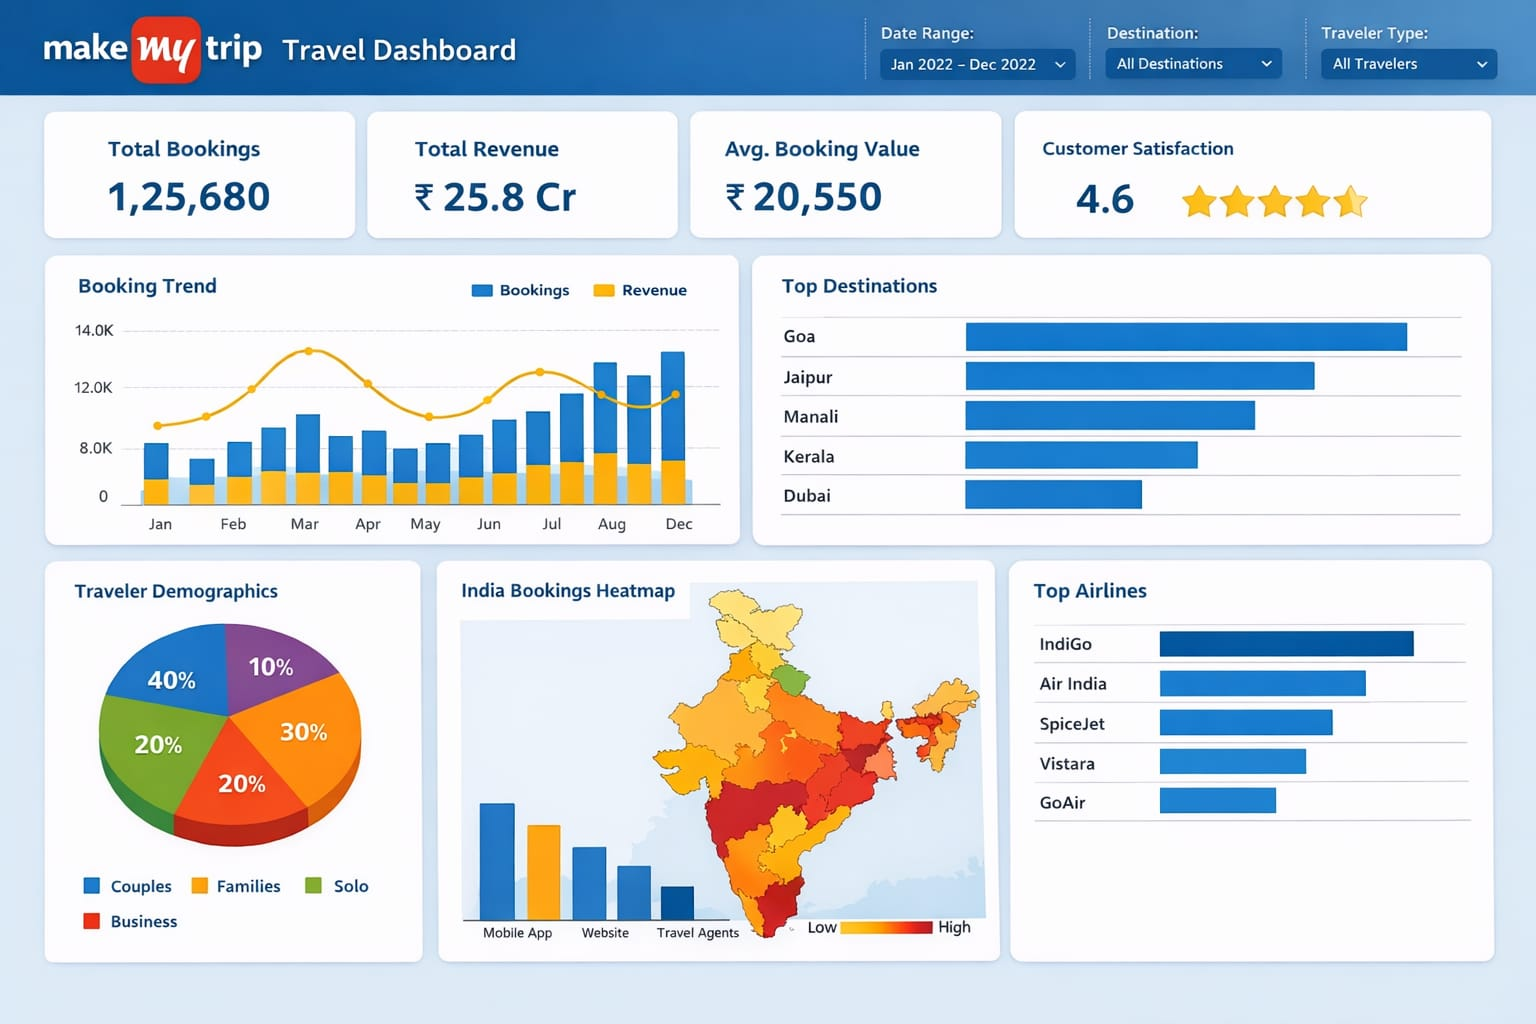

The page's visual inventory and layout, read from the dashboard file:
{"tool":"powerbi","page":{"name":"Page 1","canvas":[1280,720],"ordinal":0},"visuals":[{"type":"image","box":[0,0,1280,70],"z":0},{"type":"image","box":[10,8.6,192.9,54.3],"z":1000},{"type":"textbox","box":[202.9,12.9,240,45.7],"z":2000},{"type":"cardVisual","fields":{"Data":["MakeMyTrip.Total Bookings","MakeMyTrip.Total Revenue","MakeMyTrip.Avg Booking Value","MakeMyTrip.Customer Satisfaction"]},"box":[0,70,1280,130],"z":3000},{"type":"image","box":[1198.6,125.7,40,40],"z":4000},{"type":"shape","box":[24.3,197.1,610,250],"z":5000},{"type":"shape","box":[645.7,197.1,610,250],"z":6000},{"type":"shape","box":[24.3,447.1,298.6,261.4],"z":7000},{"type":"shape","box":[330,447.1,435.7,261.4],"z":8000},{"type":"shape","box":[772.9,447.1,482.9,261.4],"z":9000},{"type":"donutChart","title":"Traveler Demographics","fields":{"Y":["MakeMyTrip.Total Revenue"],"Category":["MakeMyTrip.Traveler_Type"]},"box":[42.9,460,264.3,238.6],"z":10000},{"type":"barChart","title":"Top Destinations","fields":{"Category":["MakeMyTrip.Destination"],"Y":["MakeMyTrip.Total Bookings"]},"box":[670,210,568.6,237.1],"z":11000},{"type":"lineClusteredColumnComboChart","title":"Booking Trend","fields":{"Category":["MakeMyTrip.Booking_Date.Variation.Date Hierarchy.Month"],"Y":["MakeMyTrip.Total Bookings"],"Y2":["MakeMyTrip.Total Revenue"]},"box":[42.9,210,578.6,237.1],"z":12000},{"type":"funnel","title":"Booking Platform ","fields":{"Category":["MakeMyTrip.Booking_Channel"],"Y":["CountNonNull(MakeMyTrip.Booking_Channel)"]},"box":[350,460,397.1,238.6],"z":13000},{"type":"areaChart","title":"Top Airline","fields":{"Category":["MakeMyTrip.Airline"],"Y":["MakeMyTrip.Total Bookings"]},"box":[795.7,460,442.9,238.6],"z":14000},{"type":"slicer","title":"Date Range","fields":{"Values":["MakeMyTrip.Booking_Date"]},"box":[633.6,3.8,233.3,59.9],"z":15000},{"type":"slicer","fields":{"Values":["MakeMyTrip.Destination"]},"box":[875.9,3.8,207.8,58.6],"z":15001},{"type":"slicer","fields":{"Values":["MakeMyTrip.Traveler_Type"]},"box":[1093.3,4.6,163,58.9],"z":15002},{"type":"shape","box":[715.4,4.6,299.3,58.9],"z":15003},{"type":"shape","box":[483.1,3.5,299.3,58.9],"z":15004},{"type":"shape","box":[939.6,4.6,299.3,58.9],"z":15005}]}

Visuals, with their boxes on the page's 1280x720 design canvas (x1, y1, x2, y2). These are canvas units, not pixel positions in the 1536x1024 screenshot, which may show the page scaled, cropped or inside an application window:
image: <bbox>0, 0, 1280, 70</bbox>
image: <bbox>10, 9, 203, 63</bbox>
textbox: <bbox>203, 13, 443, 59</bbox>
cardVisual - MakeMyTrip.Total Bookings x MakeMyTrip.Total Revenue: <bbox>0, 70, 1280, 200</bbox>
image: <bbox>1199, 126, 1239, 166</bbox>
shape: <bbox>24, 197, 634, 447</bbox>
shape: <bbox>646, 197, 1256, 447</bbox>
shape: <bbox>24, 447, 323, 708</bbox>
shape: <bbox>330, 447, 766, 708</bbox>
shape: <bbox>773, 447, 1256, 708</bbox>
"Traveler Demographics" donutChart: <bbox>43, 460, 307, 699</bbox>
"Top Destinations" barChart: <bbox>670, 210, 1239, 447</bbox>
"Booking Trend" lineClusteredColumnComboChart: <bbox>43, 210, 622, 447</bbox>
"Booking Platform " funnel: <bbox>350, 460, 747, 699</bbox>
"Top Airline" areaChart: <bbox>796, 460, 1239, 699</bbox>
"Date Range" slicer: <bbox>634, 4, 867, 64</bbox>
slicer - MakeMyTrip.Destination: <bbox>876, 4, 1084, 62</bbox>
slicer - MakeMyTrip.Traveler_Type: <bbox>1093, 5, 1256, 64</bbox>
shape: <bbox>715, 5, 1015, 64</bbox>
shape: <bbox>483, 4, 782, 62</bbox>
shape: <bbox>940, 5, 1239, 64</bbox>
